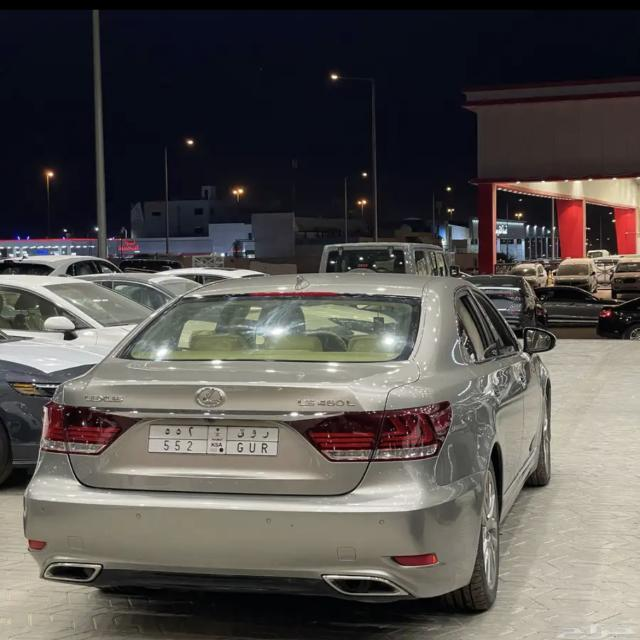license_plate: (150, 422, 294, 460)
